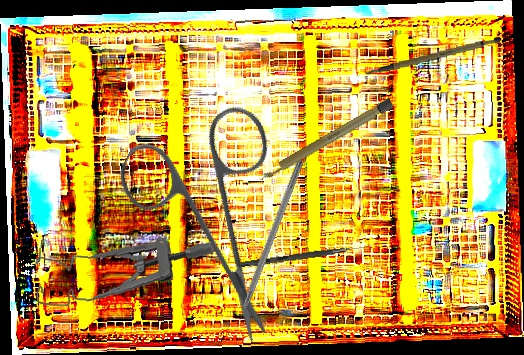Hook Surgical: (229, 157, 305, 334), (237, 241, 373, 270)
Iris Scissors: (78, 72, 347, 346)
Scalpel Handle: (260, 97, 394, 182), (363, 34, 502, 76)
Speculum: (30, 228, 216, 317)
